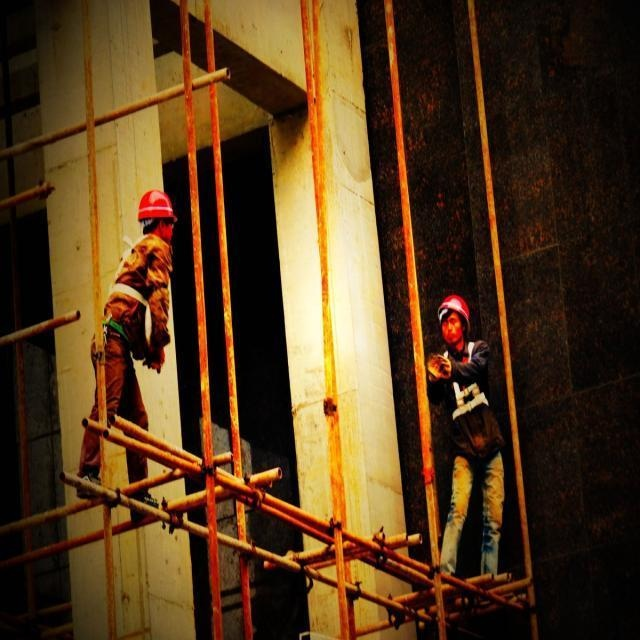Arnes_seguridad: (441, 336, 492, 423), (107, 233, 161, 311)
